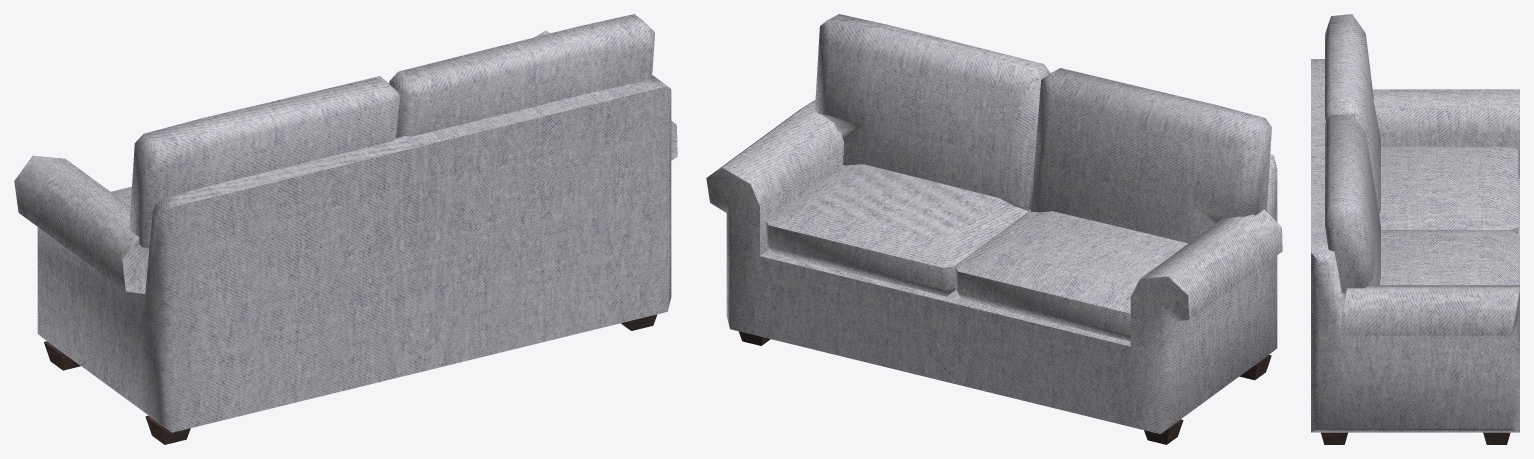
Rendered from Armchair-col.glb.
3 views of the same model, side by side, from view 1: azimuth 30°, elevation 25°; view 2: azimuth 150°, elevation 25°; view 3: azimuth 270°, elevation 25° (orthographic). The views are drawn at different scales.
Parts seen in each view (by area): view 1: Armchair-col; view 2: Armchair-col; view 3: Armchair-col.
Part boxes in pixels (x1=…): Armchair-col: x1=14, y1=14, x2=677, y2=444; Armchair-col: x1=706, y1=14, x2=1282, y2=444; Armchair-col: x1=1311, y1=14, x2=1519, y2=444.
Bounding box in the file's own units: 2.36 × 1.22 × 0.961.
Materials: 2 (2 with a texture image).
